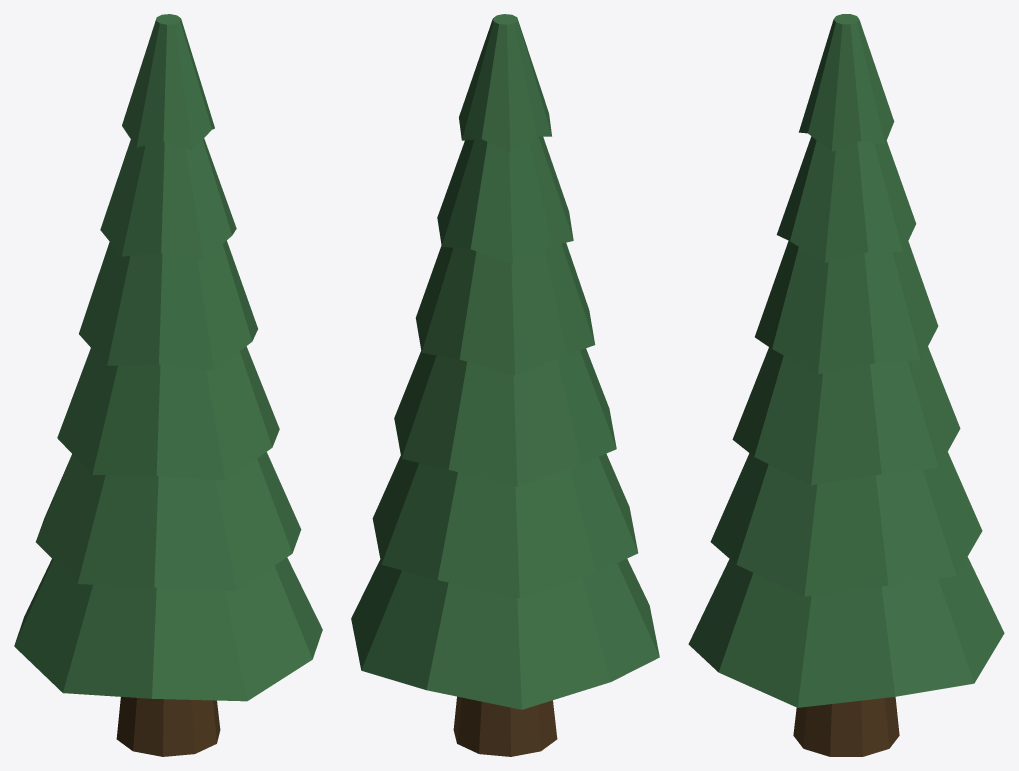
The model's file is Pohon.fbx.
The picture shows the model from 3 angles, left to right: view 1: azimuth 30°, elevation 25°; view 2: azimuth 150°, elevation 25°; view 3: azimuth 270°, elevation 25°; orthographic projection.
Visible parts, largest first — view 1: Cube.007; view 2: Cube.007; view 3: Cube.007.
Part boxes in pixels (x1,y1,x2,y2): Cube.007: (14,14,322,756); Cube.007: (351,14,659,756); Cube.007: (688,14,1004,756).
Size of the model in its own units: 236 by 621 by 248.
